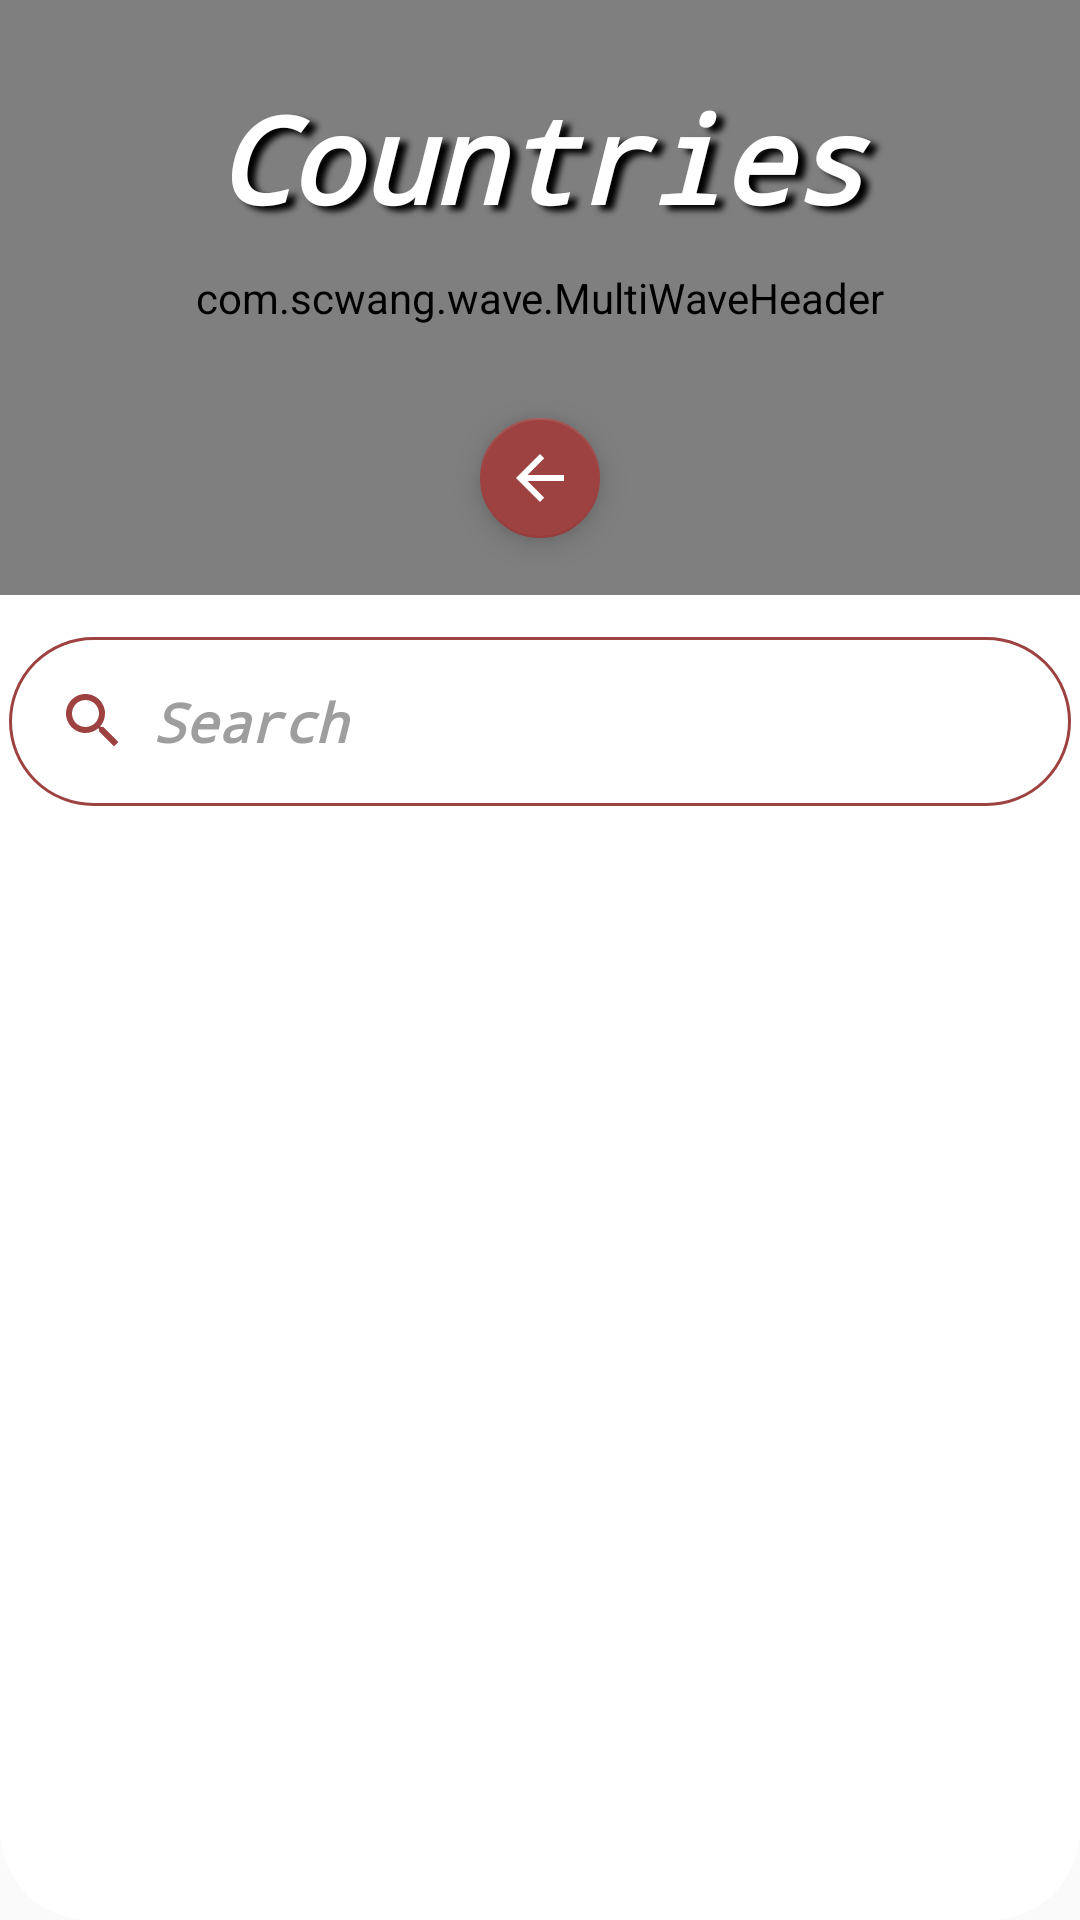

Point at icon controls on the screen. Image size 1080w x 1920h, points as point (x, y).
back: point (540, 478)
